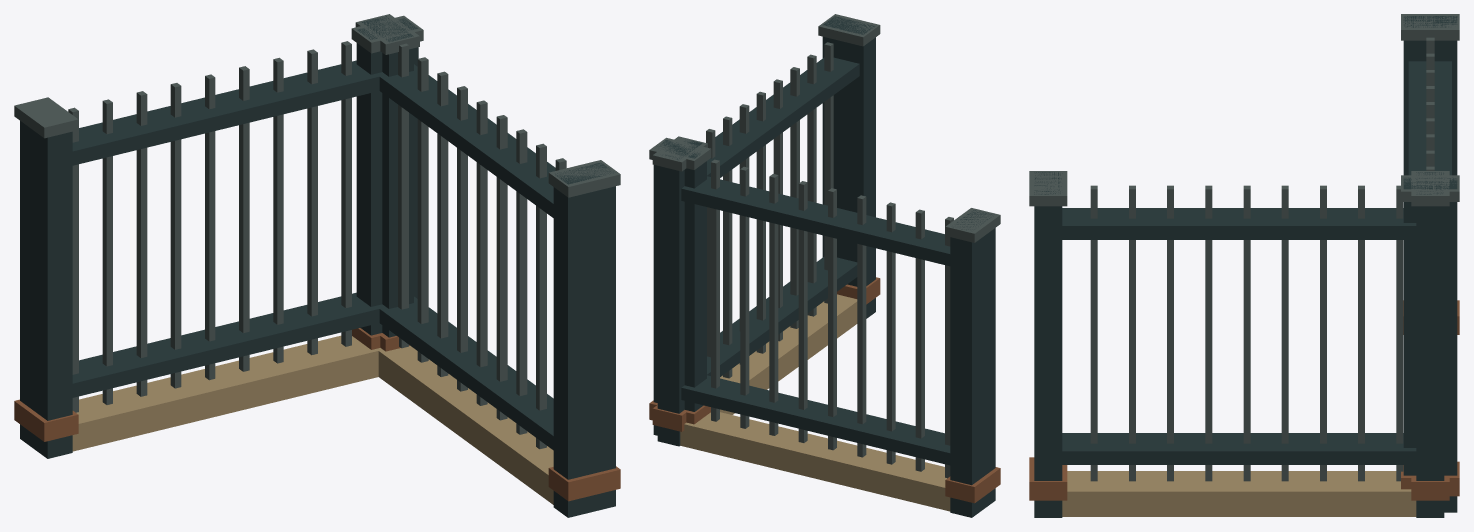
The model's file is FSA_ENV_Quarantine_Corner.glb.
3 views of the same model, side by side, from view 1: azimuth 30°, elevation 25°; view 2: azimuth 150°, elevation 25°; view 3: azimuth 270°, elevation 25° (orthographic). The views are drawn at different scales.
Parts seen in each view (by area): view 1: Z_Post3, X_Post0, X_Foot, X_Rail2_45, X_Rail0_5, Z_Foot, Z_Post0, Z_Rail0_5, Z_Rail2_45, X_Post3, X_Bar84, X_Bar114 (+21 smaller); view 2: X_Post0, X_Foot, Z_Post3, X_Rail0_5, X_Rail2_45, X_Post3, Z_Post0, Z_Rail2_45, Z_Rail0_5, Z_Foot, X_Bar54, X_Bar174 (+22 smaller); view 3: Z_Foot, Z_Rail0_5, Z_Rail2_45, Z_Post3, Z_Post0, X_Post3, X_Rail2_45, X_Post0, Z_Bar114, Z_Bar144, Z_Bar174, Z_Bar264 (+12 smaller).
Part boxes in pixels (x1=…): Z_Post3: x1=553, y1=162, x2=615, y2=517; X_Post0: x1=20, y1=121, x2=72, y2=458; X_Foot: x1=72, y1=335, x2=382, y2=451; X_Rail2_45: x1=72, y1=60, x2=385, y2=165; X_Rail0_5: x1=72, y1=292, x2=384, y2=397; Z_Foot: x1=376, y1=345, x2=553, y2=504; Z_Post0: x1=356, y1=18, x2=418, y2=335; Z_Rail0_5: x1=376, y1=296, x2=553, y2=450; Z_Rail2_45: x1=377, y1=64, x2=555, y2=217; X_Post3: x1=362, y1=16, x2=413, y2=337; X_Bar84: x1=136, y1=91, x2=147, y2=396; X_Bar114: x1=170, y1=83, x2=181, y2=388; X_Post0: x1=950, y1=210, x2=995, y2=517; X_Foot: x1=680, y1=412, x2=950, y2=511; Z_Post3: x1=822, y1=16, x2=875, y2=318; X_Rail0_5: x1=681, y1=375, x2=950, y2=465; X_Rail2_45: x1=681, y1=176, x2=950, y2=266; X_Post3: x1=657, y1=139, x2=702, y2=446; Z_Post0: x1=653, y1=140, x2=706, y2=435; Z_Rail2_45: x1=707, y1=57, x2=859, y2=177; Z_Rail0_5: x1=707, y1=257, x2=857, y2=376; Z_Foot: x1=720, y1=294, x2=857, y2=414; X_Bar54: x1=915, y1=209, x2=924, y2=471; X_Bar174: x1=798, y1=181, x2=807, y2=442; Z_Foot: x1=1062, y1=471, x2=1416, y2=516; Z_Rail0_5: x1=1062, y1=433, x2=1416, y2=464; Z_Rail2_45: x1=1062, y1=208, x2=1416, y2=239; Z_Post3: x1=1034, y1=172, x2=1062, y2=517; Z_Post0: x1=1416, y1=172, x2=1444, y2=517; X_Post3: x1=1403, y1=177, x2=1457, y2=512; X_Rail2_45: x1=1408, y1=61, x2=1451, y2=175; X_Post0: x1=1403, y1=16, x2=1457, y2=175; Z_Bar114: x1=1281, y1=185, x2=1288, y2=481; Z_Bar144: x1=1243, y1=185, x2=1250, y2=481; Z_Bar174: x1=1205, y1=185, x2=1212, y2=481; Z_Bar264: x1=1090, y1=185, x2=1097, y2=481.
Size of what is drawn, in the model's own units: 3.38 by 2.8 by 3.38.
